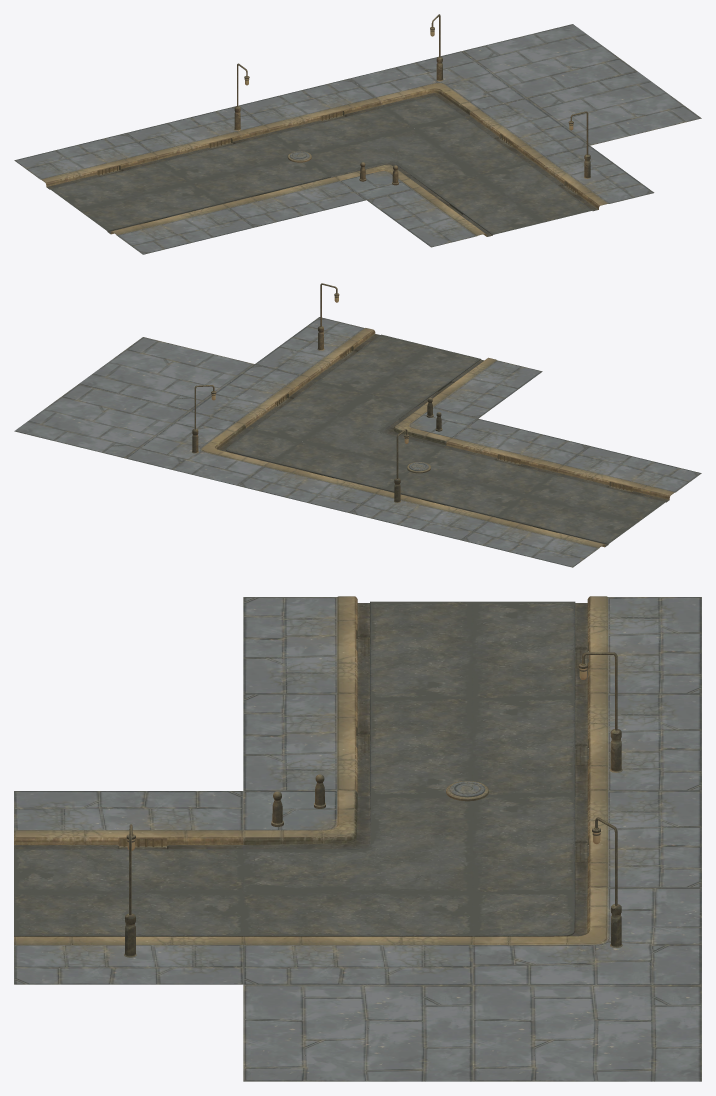
File: cx_street.be884334a8.glb
3 views of the same model, one above another, from view 1: azimuth 30°, elevation 25°; view 2: azimuth 150°, elevation 25°; view 3: azimuth 270°, elevation 25° (orthographic). The views are drawn at different scales.
Parts seen in each view (by area): view 1: streetstraight_4, streetstraight_1, streetstraight_2, streetstraight, streetcornerIN, streetstraight_7, streetplane_1, streetplane, streetstraight_6, streetstraight_5, streetstraight_3, streetcornerOUt (+1 smaller); view 2: streetstraight_5, streetstraight_3, streetstraight_2, streetstraight_7, streetplane_1, streetplane, streetstraight_6, streetcornerIN, streetcornerOUt, streetstraight_4, streetstraight_1, streetstraight; view 3: streetstraight_6, streetplane, streetplane_1, streetstraight_5, streetcornerOUt, streetstraight_4, streetstraight_1, streetstraight_3, streetstraight, streetcornerIN, streetstraight_2, streetstraight_7 (+3 smaller).
Part boxes in pixels (bbox=[...]): streetstraight_4: bbox=[14, 133, 189, 209]; streetstraight_1: bbox=[238, 78, 413, 153]; streetstraight_2: bbox=[414, 98, 589, 175]; streetstraight: bbox=[126, 106, 295, 182]; streetcornerIN: bbox=[349, 51, 525, 127]; streetstraight_7: bbox=[478, 146, 654, 222]; streetplane_1: bbox=[461, 24, 636, 98]; streetplane: bbox=[526, 71, 701, 145]; streetstraight_6: bbox=[367, 175, 542, 247]; streetstraight_5: bbox=[79, 183, 254, 254]; streetstraight_3: bbox=[190, 159, 365, 227]; streetcornerOUt: bbox=[309, 128, 477, 200]; streetstraight_5: bbox=[526, 446, 701, 522]; streetstraight_3: bbox=[423, 418, 589, 495]; streetstraight_2: bbox=[190, 364, 365, 440]; streetstraight_7: bbox=[255, 317, 430, 393]; streetplane_1: bbox=[14, 384, 189, 458]; streetplane: bbox=[79, 337, 254, 411]; streetstraight_6: bbox=[367, 346, 542, 418]; streetcornerIN: bbox=[126, 411, 301, 485]; streetcornerOUt: bbox=[302, 394, 477, 466]; streetstraight_4: bbox=[461, 496, 636, 567]; streetstraight_1: bbox=[238, 441, 409, 512]; streetstraight: bbox=[349, 471, 525, 540]; streetstraight_6: bbox=[14, 791, 243, 892]; streetplane: bbox=[243, 984, 472, 1081]; streetplane_1: bbox=[472, 984, 701, 1081]; streetstraight_5: bbox=[243, 596, 472, 699]; streetcornerOUt: bbox=[243, 790, 472, 892]; streetstraight_4: bbox=[472, 596, 701, 699]; streetstraight_1: bbox=[472, 790, 701, 893]; streetstraight_3: bbox=[243, 693, 472, 796]; streetstraight: bbox=[472, 693, 701, 796]; streetcornerIN: bbox=[472, 887, 701, 984]; streetstraight_2: bbox=[243, 892, 472, 984]; streetstraight_7: bbox=[14, 892, 243, 984].
Size of the model in its own units: 4000 by 490 by 2400.
Materials: 1 (1 with a texture image).
